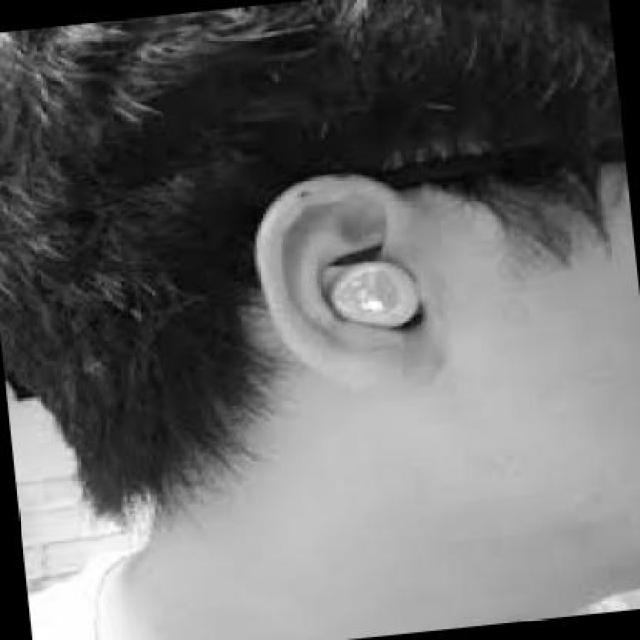earphone: (301, 217, 439, 366)
